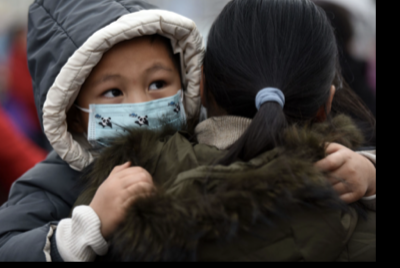with_mask: (84, 58, 188, 154)
